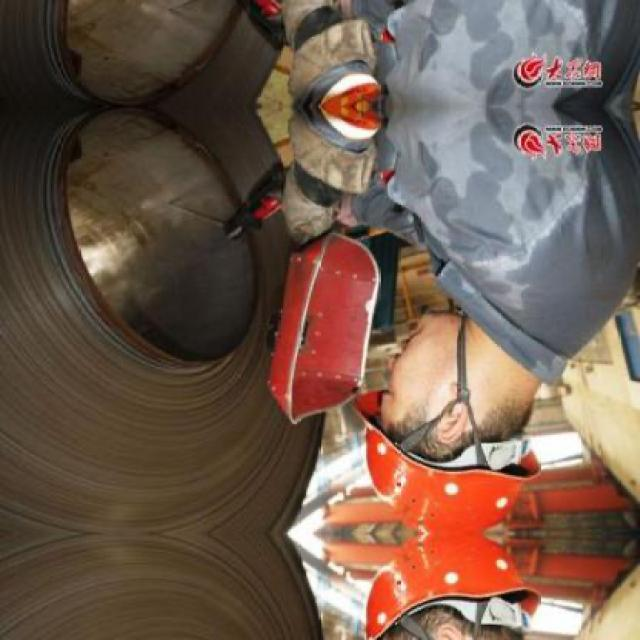con casco: (333, 365, 562, 533)
